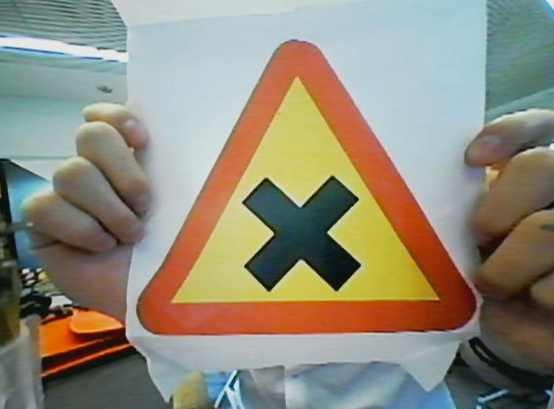junction: (137, 28, 513, 353)
